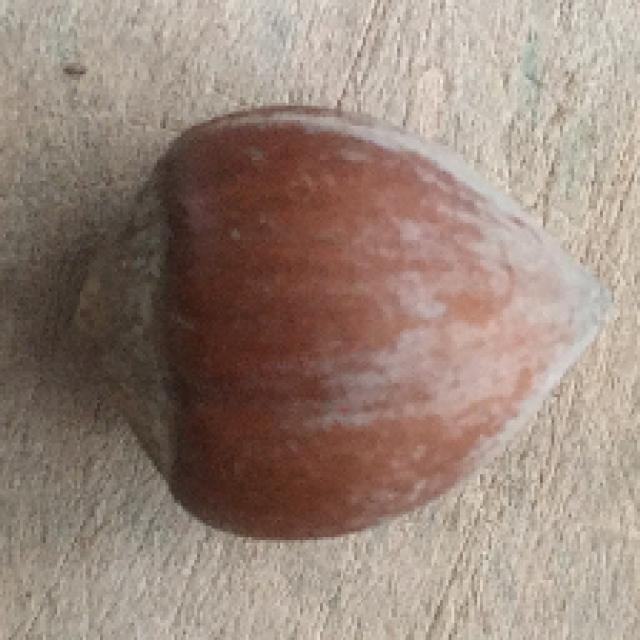qualityHazelnut: (57, 99, 614, 542)
